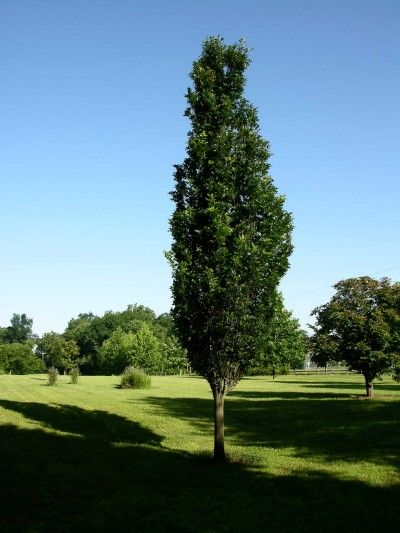tree: (162, 33, 296, 460), (301, 275, 400, 398)
